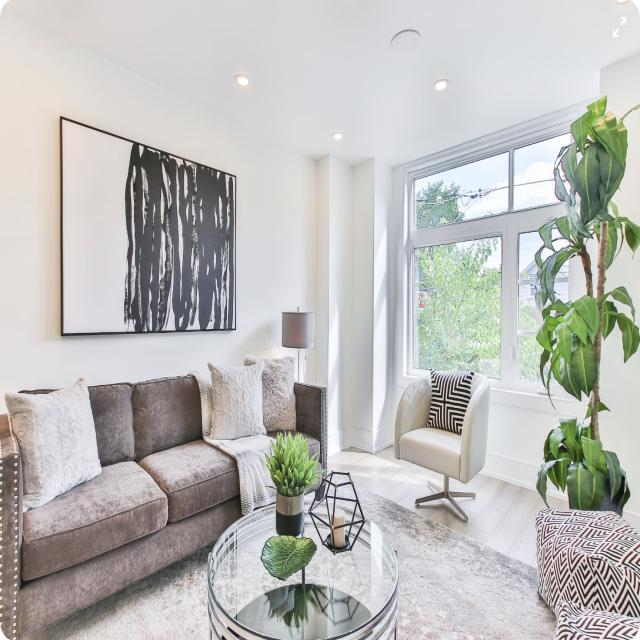lamp: (280, 304, 314, 382)
picture: (58, 112, 241, 342)
pillow: (6, 398, 104, 487), (206, 356, 272, 440), (427, 367, 474, 436)
potted plant: (552, 110, 631, 514), (268, 428, 310, 530)
sofa: (4, 340, 338, 640), (397, 366, 495, 524)
